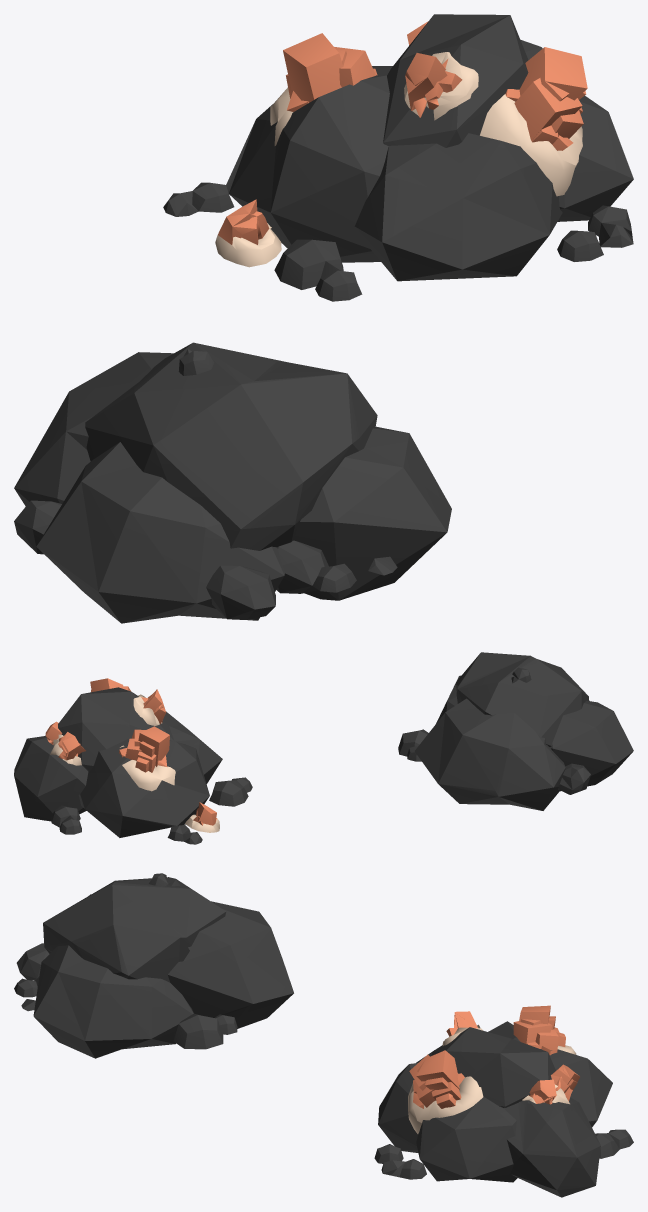
File: Environment.fbx
The picture shows the model from 3 angles, top to bottom: view 1: azimuth 30°, elevation 25°; view 2: azimuth 150°, elevation 25°; view 3: azimuth 270°, elevation 25°; orthographic projection. The views are drawn at different scales.
Parts seen in each view (by area): view 1: Environment_Rock, Cylinder030.001; view 2: Cylinder030.001, Environment_Rock; view 3: Environment_Rock, Cylinder030.001.
Part boxes in pixels (x1,y1,x2,y2): Environment_Rock: (14, 342, 451, 623); Cylinder030.001: (163, 14, 633, 301); Cylinder030.001: (14, 678, 252, 844); Environment_Rock: (398, 652, 633, 810); Environment_Rock: (14, 873, 293, 1058); Cylinder030.001: (374, 1005, 633, 1197).
Size of the model in its own units: 354 by 102 by 353.
